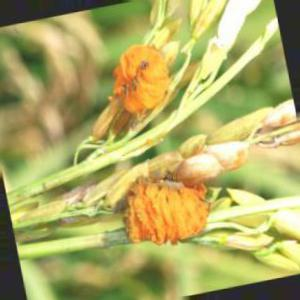Leaf_Scald: (130, 191, 215, 244), (120, 46, 168, 116), (135, 175, 189, 181)
